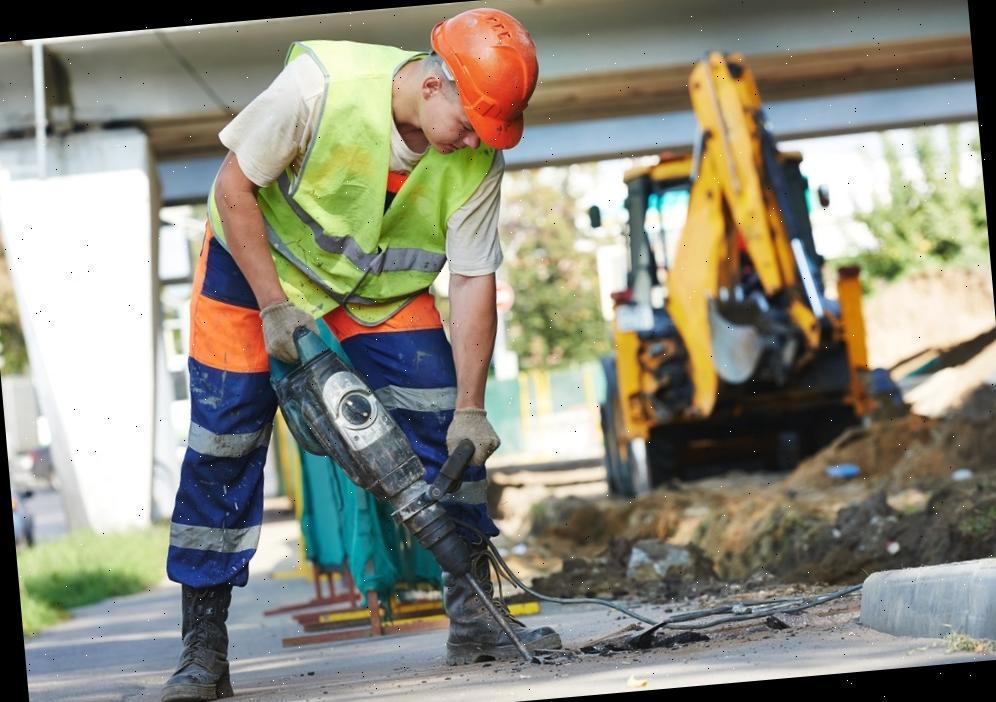helmet: (410, 0, 555, 150)
wear: (196, 44, 436, 302)
